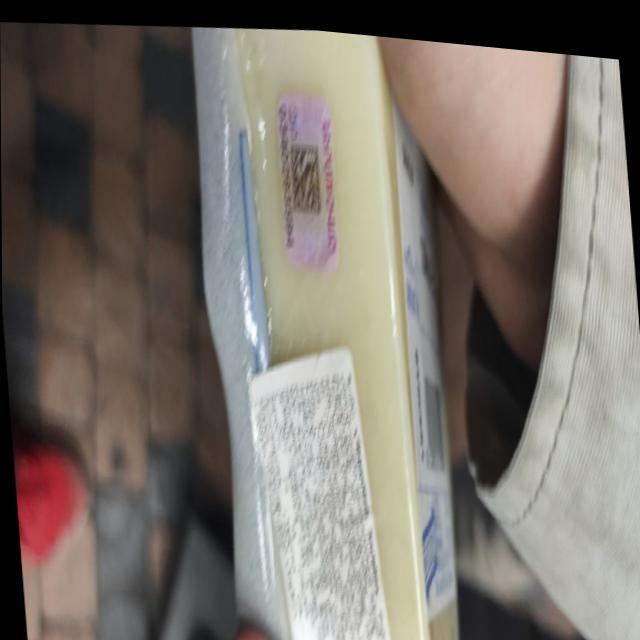datamatrix: (287, 133, 325, 216)
